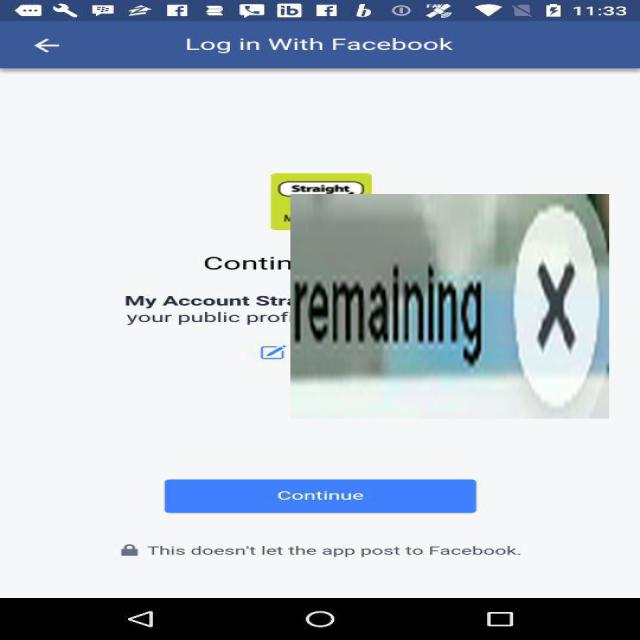misdirection: (290, 194, 610, 419)
